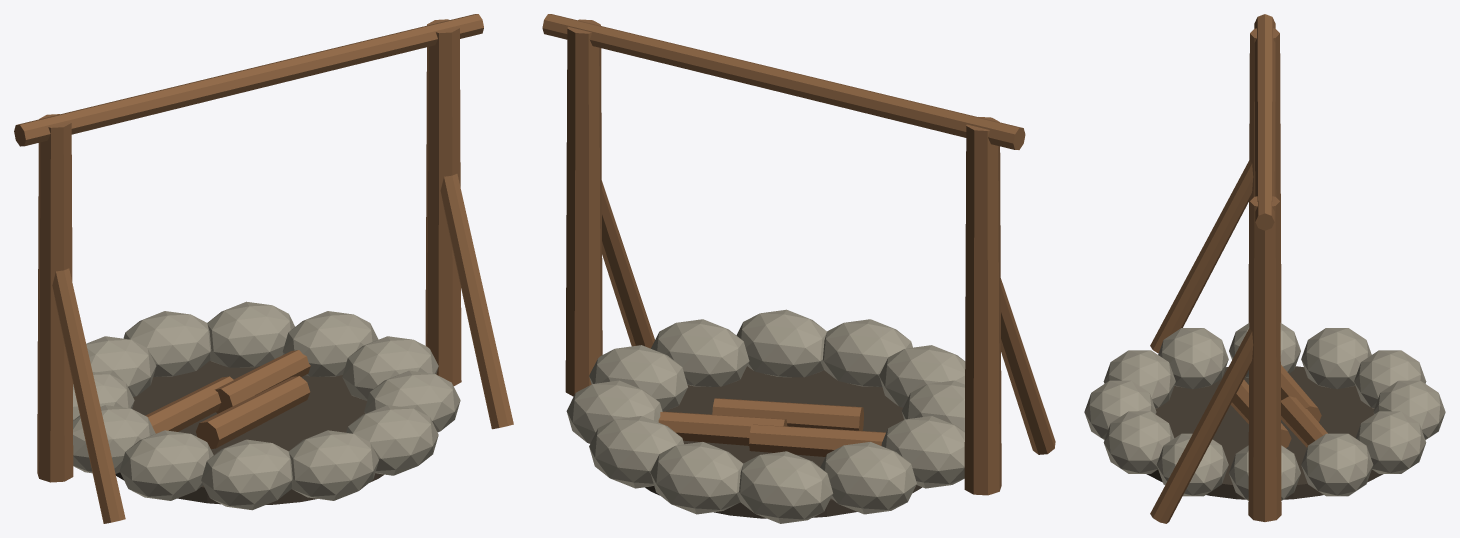
3 renders of one model, left to right at view 1: azimuth 30°, elevation 25°; view 2: azimuth 150°, elevation 25°; view 3: azimuth 270°, elevation 25°, orthographic. The views are drawn at different scales.
Visible parts, largest first — view 1: GF-192 Domestic cooking hearth and suspension support batche; view 2: GF-192 Domestic cooking hearth and suspension support batche; view 3: GF-192 Domestic cooking hearth and suspension support batche.
Boxes of the visible parts, x1,y1,x2,y2 form: GF-192 Domestic cooking hearth and suspension support batche: (14, 14, 513, 523); GF-192 Domestic cooking hearth and suspension support batche: (542, 14, 1055, 523); GF-192 Domestic cooking hearth and suspension support batche: (1084, 14, 1445, 523).
Bounding box in the file's own units: 1.56 × 1.2 × 1.2.
